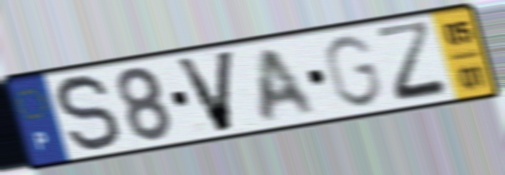8: (114, 64, 175, 145)
A: (259, 44, 320, 126)
G: (321, 32, 386, 110)
S: (53, 71, 124, 157)
V: (172, 47, 239, 136)
Z: (372, 17, 456, 105)
